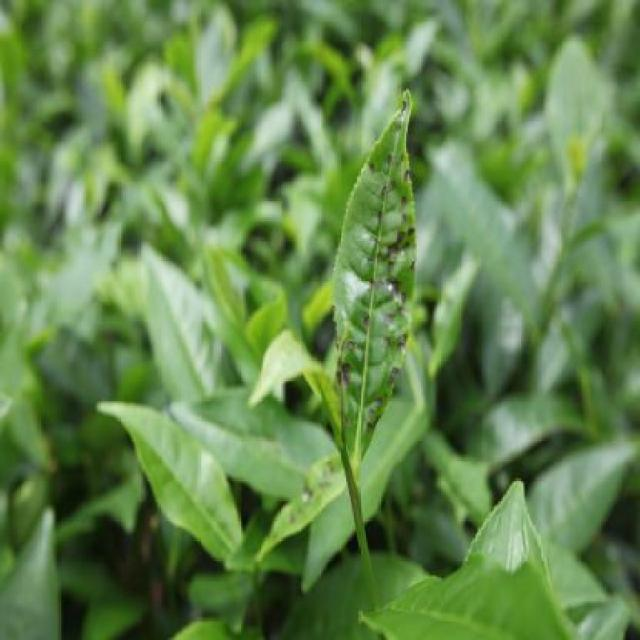Tea Mosquito bug infested leaf: (328, 89, 418, 471)
